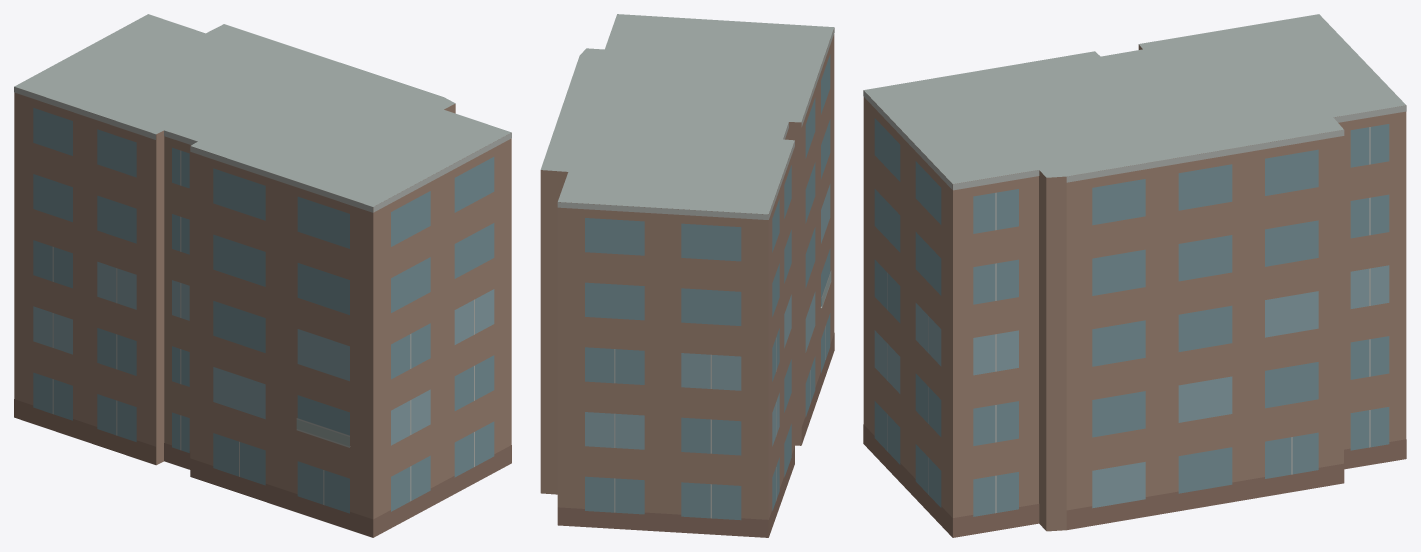
File: survey-upis-32575874.glb
3 renders of one model, left to right at view 1: azimuth 30°, elevation 25°; view 2: azimuth 150°, elevation 25°; view 3: azimuth 270°, elevation 25°, orthographic. The views are drawn at different scales.
Visible parts, largest first — view 1: survey-upis-32575874.tmp; view 2: survey-upis-32575874.tmp; view 3: survey-upis-32575874.tmp.
Boxes of the visible parts, left/top/right/bottom form: survey-upis-32575874.tmp: left=14, top=14, right=511, bottom=537; survey-upis-32575874.tmp: left=540, top=14, right=834, bottom=537; survey-upis-32575874.tmp: left=863, top=14, right=1406, bottom=537.
Size of the model in its own units: 14.36 by 13.9 by 19.35.
